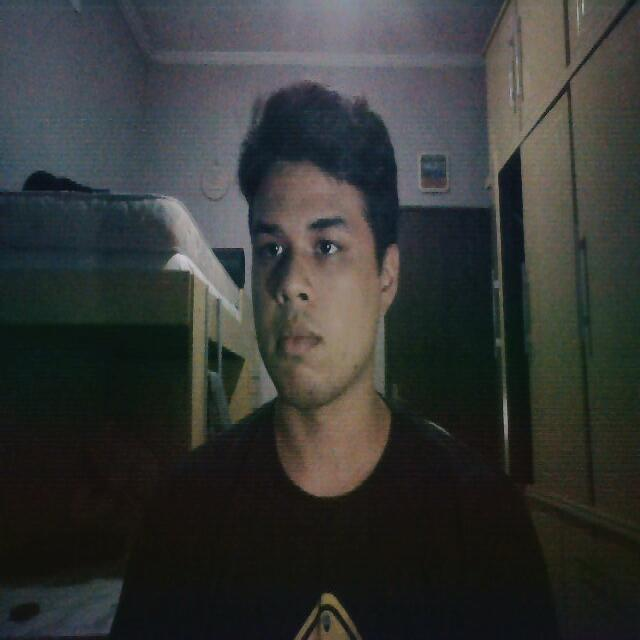acordado: (242, 155, 386, 403)
